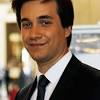without_mask: (13, 1, 71, 60)
